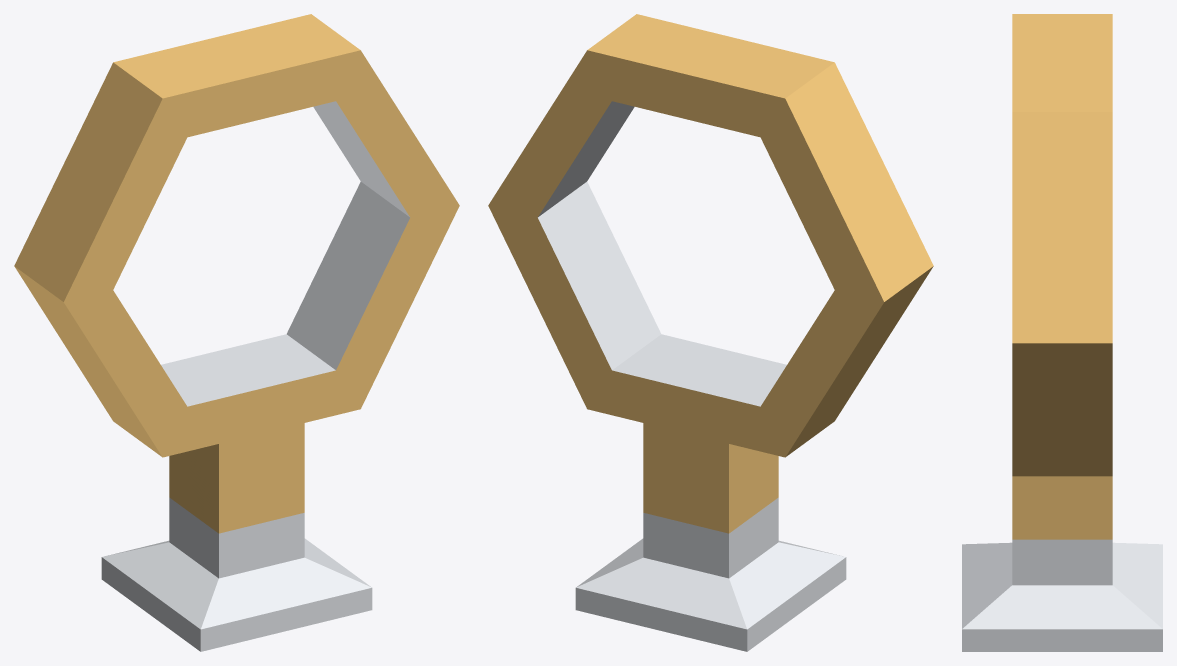
File: piperingSupport-col.glb
3 renders of one model, left to right at view 1: azimuth 30°, elevation 25°; view 2: azimuth 150°, elevation 25°; view 3: azimuth 270°, elevation 25°, orthographic.
Visible parts, largest first — view 1: piperingSupport-col; view 2: piperingSupport-col; view 3: piperingSupport-col.
Part boxes in pixels (left/top/right/bottom): piperingSupport-col: left=14, top=14, right=459, bottom=651; piperingSupport-col: left=488, top=14, right=933, bottom=651; piperingSupport-col: left=962, top=14, right=1162, bottom=651.
Bounding box in the file's own units: 0.9238 × 1.2 × 0.4.
